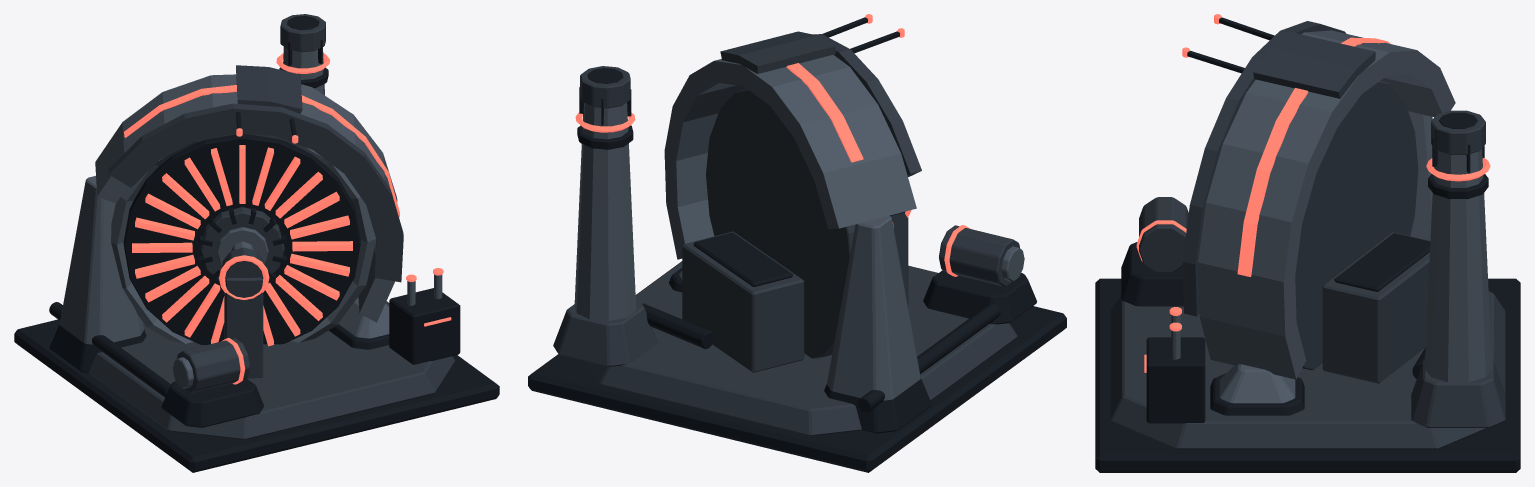
File: m_power.glb
The picture shows the model from 3 angles, left to right: view 1: azimuth 30°, elevation 25°; view 2: azimuth 150°, elevation 25°; view 3: azimuth 270°, elevation 25°; orthographic projection. The views are drawn at different scales.
Visible parts, largest first — view 1: Generator works, Generator rotor; view 2: Generator works; view 3: Generator works.
Boxes of the visible parts, <box> form: Generator works: <box>14,14,499,472</box>; Generator rotor: <box>123,134,360,346</box>; Generator works: <box>528,14,1066,472</box>; Generator works: <box>1095,14,1520,472</box>.
Bounding box in the file's own units: 5.8 × 5.08 × 5.8.
